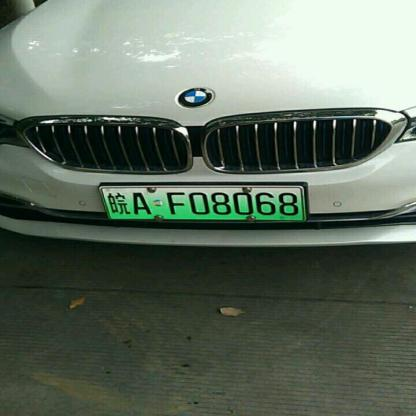lp: (101, 188, 304, 219)
